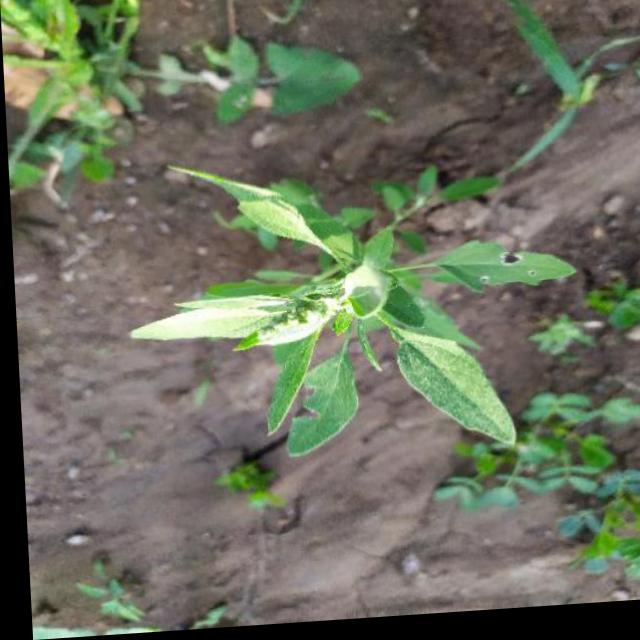weed: (117, 136, 580, 484)
